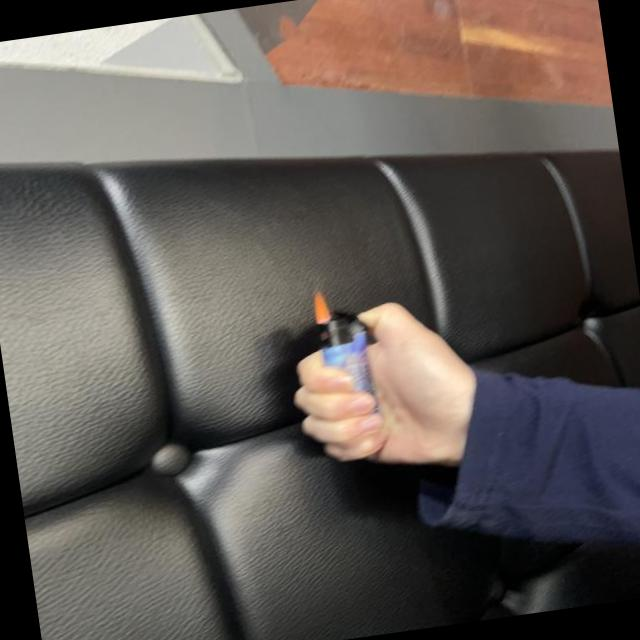Fire: (312, 290, 334, 326)
